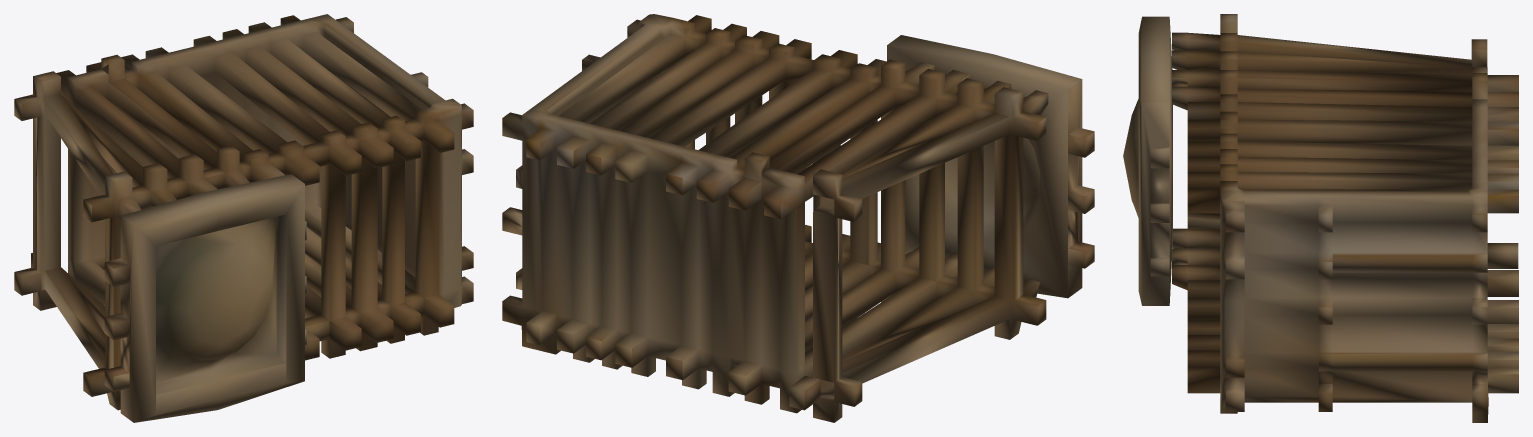
Rendered from building-12.fbx.
3 renders of one model, left to right at view 1: azimuth 30°, elevation 25°; view 2: azimuth 150°, elevation 25°; view 3: azimuth 270°, elevation 25°, orthographic. The views are drawn at different scales.
Visible parts, largest first — view 1: Adobe_Express_file_Three_dimensional_model_of_a_desert_buil; view 2: Adobe_Express_file_Three_dimensional_model_of_a_desert_buil; view 3: Adobe_Express_file_Three_dimensional_model_of_a_desert_buil.
Boxes of the visible parts, <box> form: Adobe_Express_file_Three_dimensional_model_of_a_desert_buil: <box>14,14,473,422</box>; Adobe_Express_file_Three_dimensional_model_of_a_desert_buil: <box>502,14,1094,422</box>; Adobe_Express_file_Three_dimensional_model_of_a_desert_buil: <box>1123,14,1518,422</box>.
Bounding box in the file's own units: 2358 × 1307 × 1980.
